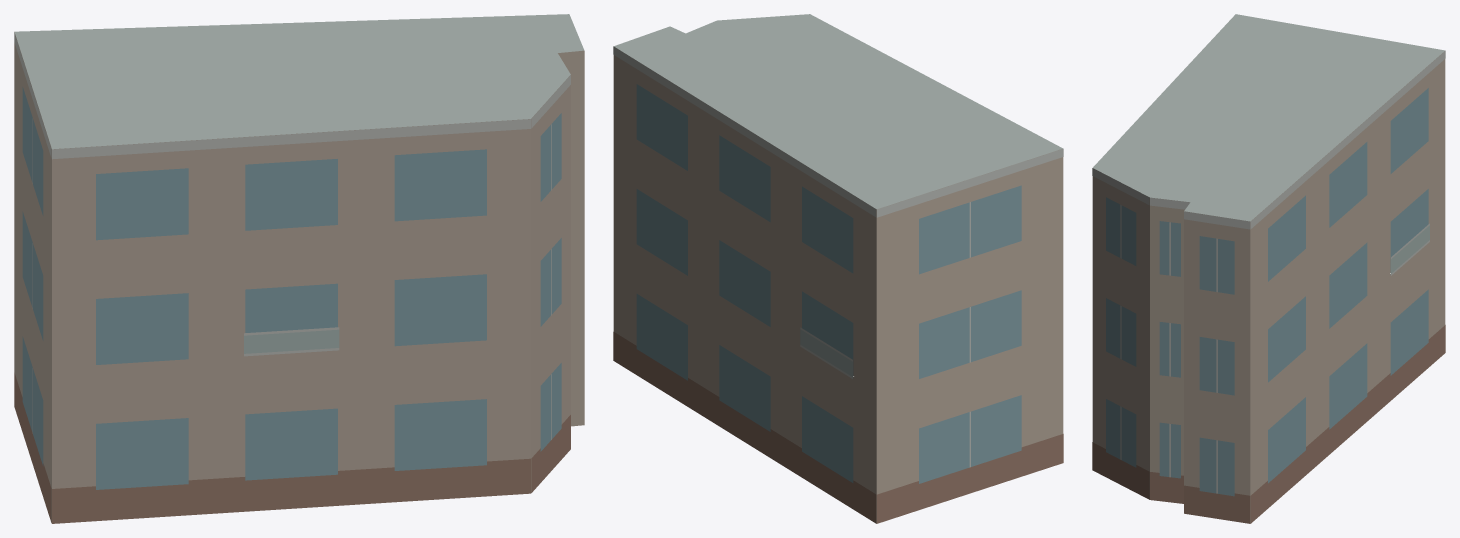
File: survey-upis-32491666.glb
3 views of the same model, side by side, from view 1: azimuth 30°, elevation 25°; view 2: azimuth 150°, elevation 25°; view 3: azimuth 270°, elevation 25° (orthographic). The views are drawn at different scales.
Parts seen in each view (by area): view 1: survey-upis-32491666.tmp; view 2: survey-upis-32491666.tmp; view 3: survey-upis-32491666.tmp.
Boxes of the visible parts, bbox=[...] form: survey-upis-32491666.tmp: bbox=[14, 14, 584, 523]; survey-upis-32491666.tmp: bbox=[613, 14, 1063, 523]; survey-upis-32491666.tmp: bbox=[1092, 14, 1445, 523].
Size of the model in its own units: 13.47 by 9.15 by 9.69.
